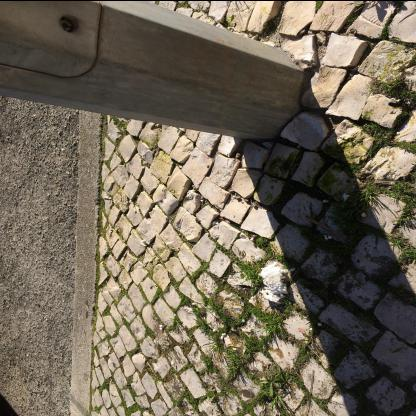kopuk: (258, 260, 288, 302)
